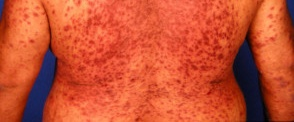SJS-TEN: (55, 0, 242, 119), (250, 0, 293, 99), (0, 0, 59, 57)
